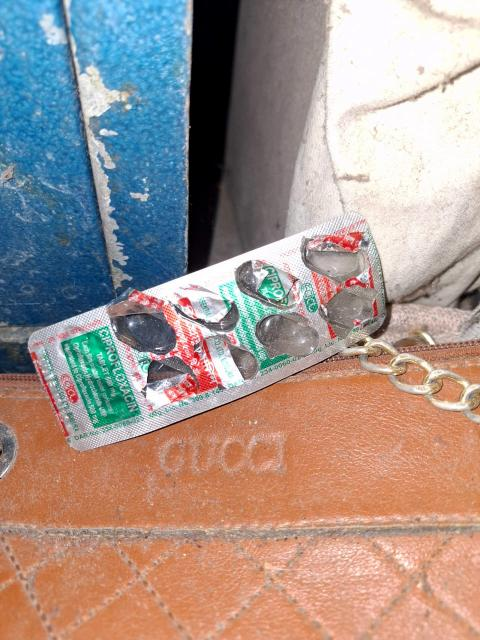medicine: (27, 188, 419, 460)
